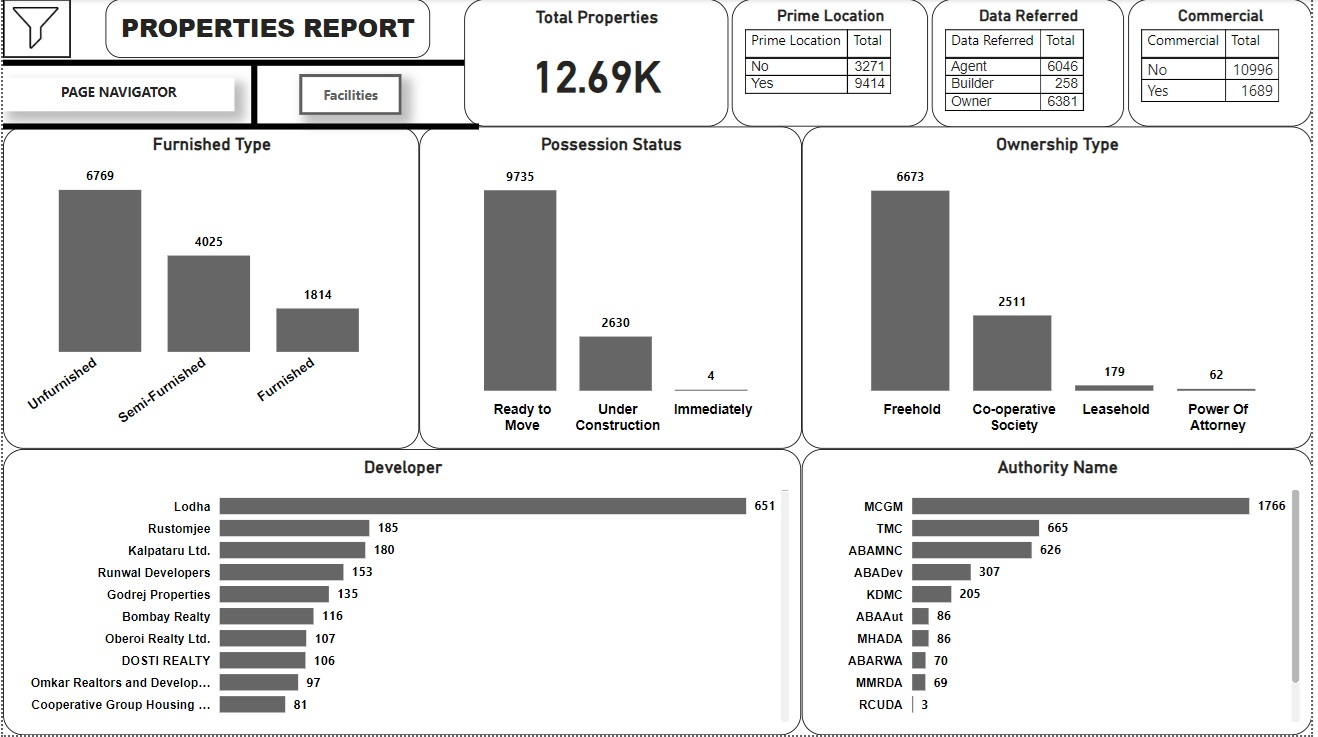

What the dashboard file says about the page in this screenshot:
{"tool":"powerbi","page":{"name":"Properties","canvas":[1280,720],"ordinal":0},"visuals":[{"type":"barChart","title":"Developer","fields":{"Category":["properties.Developer"],"Y":["CountNonNull(properties.Developer)"]},"box":[0,440.1,781.2,279.6],"z":0},{"type":"barChart","title":"Authority Name","fields":{"Category":["properties.Approved Authority Name"],"Y":["CountNonNull(properties.Approved Authority Name)"]},"box":[781.2,440.1,499.1,279.6],"z":1000},{"type":"card","title":"Total Properties","fields":{"Values":["CountNonNull(properties.ID)"]},"box":[451.2,0,258,124.7],"z":2000},{"type":"columnChart","title":"Possession Status ","fields":{"Category":["properties.Possession Status"],"Y":["CountNonNull(properties.Possession Status)"]},"box":[407.2,124.7,374.2,315.5],"z":3000},{"type":"columnChart","title":"Furnished Type","fields":{"Category":["properties.furnished Type"],"Y":["CountNonNull(properties.furnished Type)"]},"box":[0,124.7,407.2,315.5],"z":4000},{"type":"tableEx","title":"Commercial","fields":{"Values":["properties.Commercial","CountNonNull(properties.Commercial)"]},"box":[1100.2,0,179.8,124.7],"z":5000},{"type":"textbox","box":[99.7,0,317.9,57.5],"z":6000},{"type":"tableEx","title":"Data Referred","fields":{"Values":["properties.Data Referred From","CountNonNull(properties.Data Referred From)"]},"box":[908.9,0,187.8,125.2],"z":7000},{"type":"columnChart","title":"Ownership Type","fields":{"Category":["properties.Ownership Type"],"Y":["CountNonNull(properties.Ownership Type)"]},"box":[781.4,124.7,498.9,315.5],"z":8000},{"type":"tableEx","title":"Prime Location","fields":{"Values":["properties.isPrimeLocationProperty","CountNonNull(properties.isPrimeLocationProperty)"]},"box":[713.1,0,192,124.7],"z":9000},{"type":"image","box":[0,0,66,57.5],"z":10000},{"type":"shape","box":[0,47.7,451.2,29.3],"z":14000},{"type":"shape","box":[0,110.1,465.9,29.3],"z":15000},{"type":"textbox","box":[0,77,226.2,33],"z":16000},{"type":"shape","box":[212.8,64.8,66,59.9],"z":17000},{"type":"actionButton","box":[289.8,73.4,100.3,40.4],"z":18000}]}

Visuals, with their boxes in screenshot pixels (x1, y1, x2, y2), scaled from the page's 1280x720 canvas onto the 1318x737 screenshot:
"Developer" barChart: <region>0, 450, 804, 736</region>
"Authority Name" barChart: <region>804, 450, 1317, 736</region>
"Total Properties" card: <region>465, 0, 730, 128</region>
"Possession Status " columnChart: <region>419, 128, 805, 451</region>
"Furnished Type" columnChart: <region>0, 128, 419, 451</region>
"Commercial" tableEx: <region>1133, 0, 1317, 128</region>
textbox: <region>103, 0, 430, 59</region>
"Data Referred" tableEx: <region>936, 0, 1129, 128</region>
"Ownership Type" columnChart: <region>805, 128, 1317, 451</region>
"Prime Location" tableEx: <region>734, 0, 932, 128</region>
image: <region>0, 0, 68, 59</region>
shape: <region>0, 49, 465, 79</region>
shape: <region>0, 113, 480, 143</region>
textbox: <region>0, 79, 233, 113</region>
shape: <region>219, 66, 287, 128</region>
actionButton: <region>298, 75, 402, 116</region>
